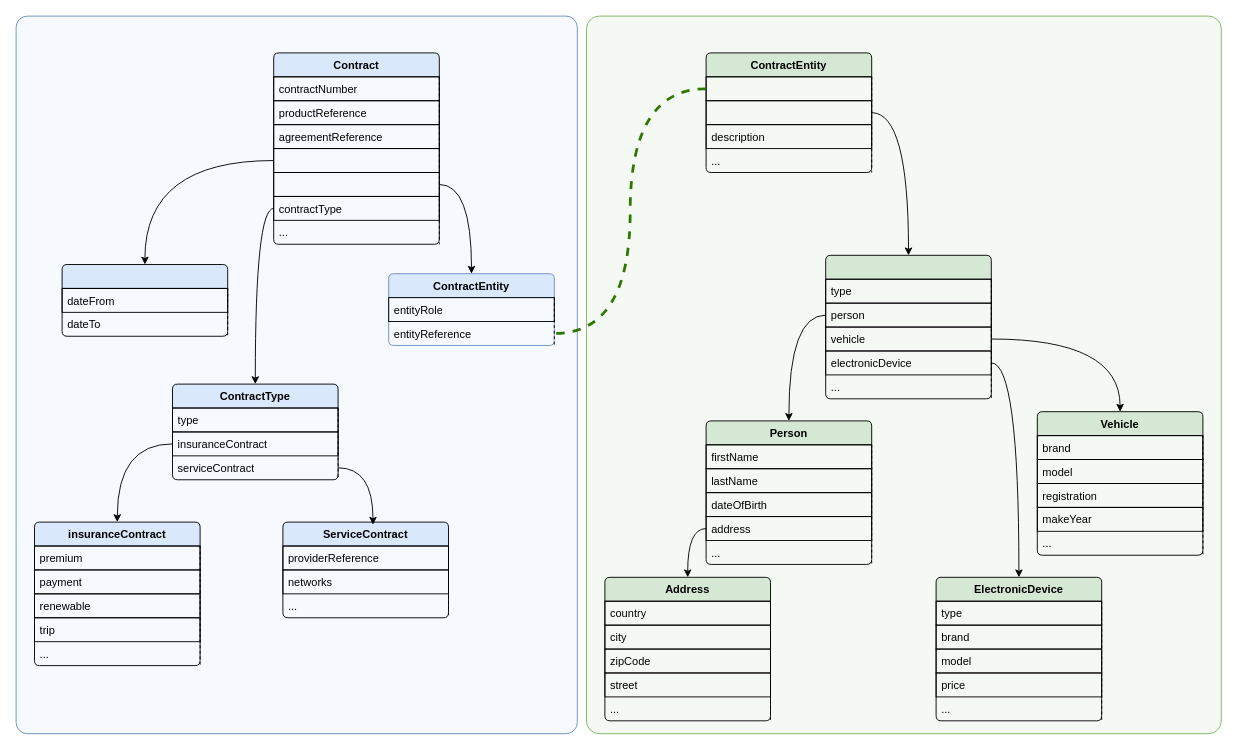
Some shapes in this 1237 by 750 pixel diagram are drawn without their labels. Each missing label, with the box of its shape:
Contract Entity (Beneficiary) Scope: (586, 15, 1221, 734)
Contract Scope: (15, 15, 577, 734)
contractEntities: (273, 172, 439, 196)
ContractEntityType: (825, 254, 991, 399)
CoverageDate: (61, 264, 228, 336)
coverageDates: (273, 148, 439, 172)
entityId: (705, 76, 872, 101)
entityType: (705, 100, 872, 125)
